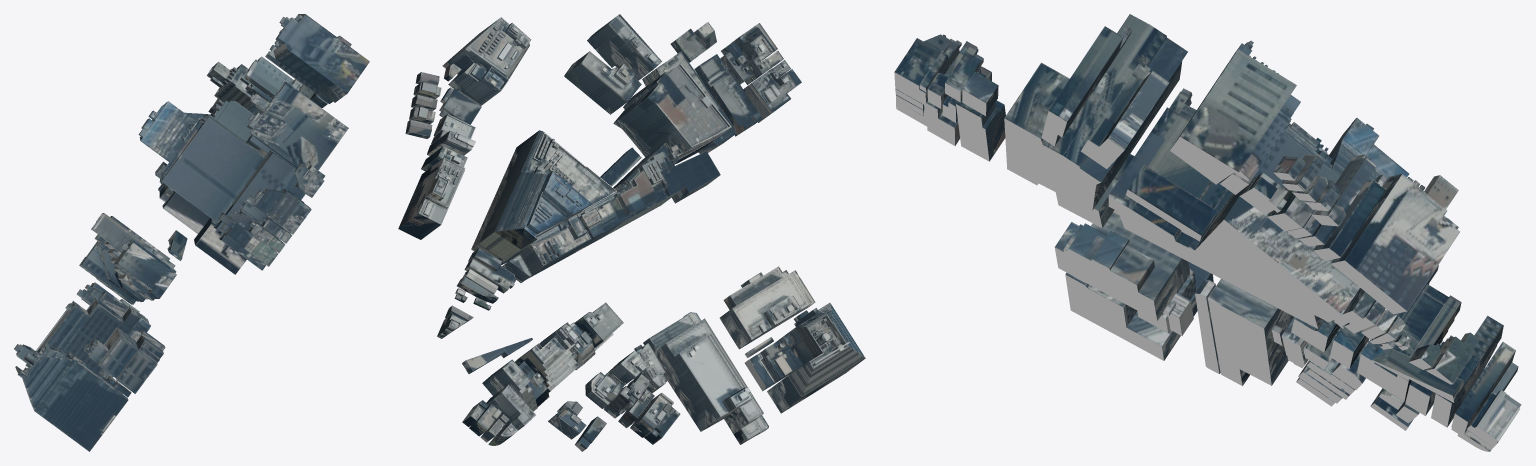
File: l2_data521.glb
The picture shows the model from 3 angles, left to right: view 1: azimuth 30°, elevation 25°; view 2: azimuth 150°, elevation 25°; view 3: azimuth 270°, elevation 25°; orthographic projection. The views are drawn at different scales.
Bounding box in the file's own units: 199 × 181 × 208.
2 materials, 1 textured.
